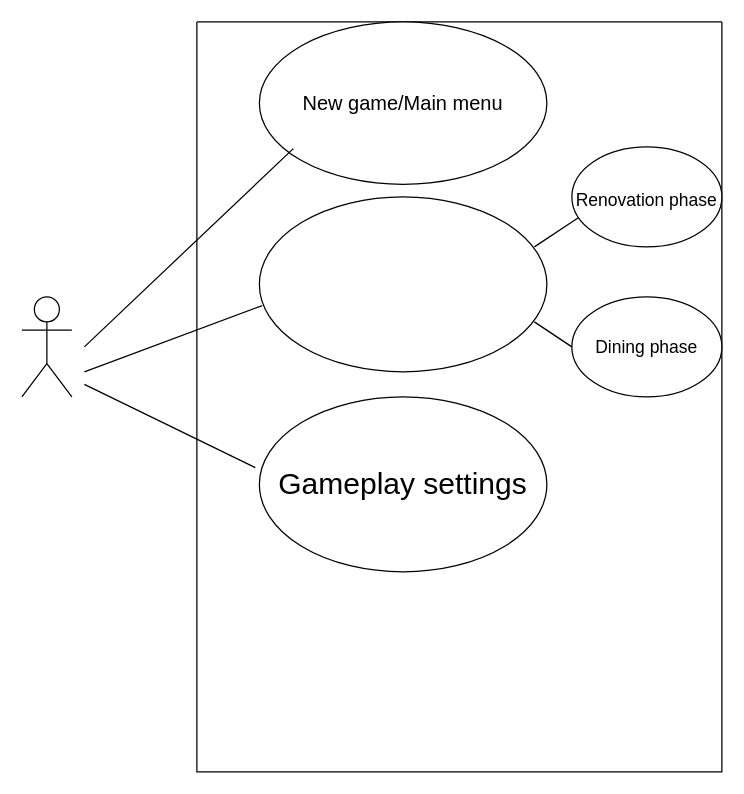
Some shapes in this 744 by 794 pixel diagram are drawn without their labels. The centre of each missing label's shape, as x and y in pixels:
"Actor" goes at point 46,346.
"Gameplay" goes at point 402,284.
